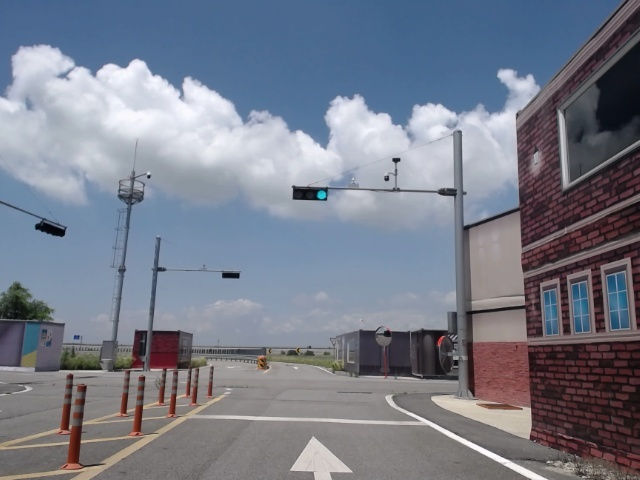green_3: (295, 188, 327, 200)
